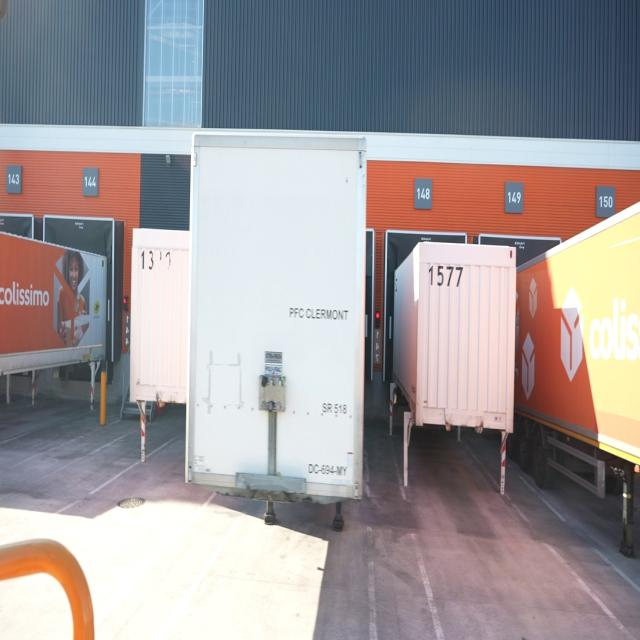Code: (426, 256, 465, 294)
